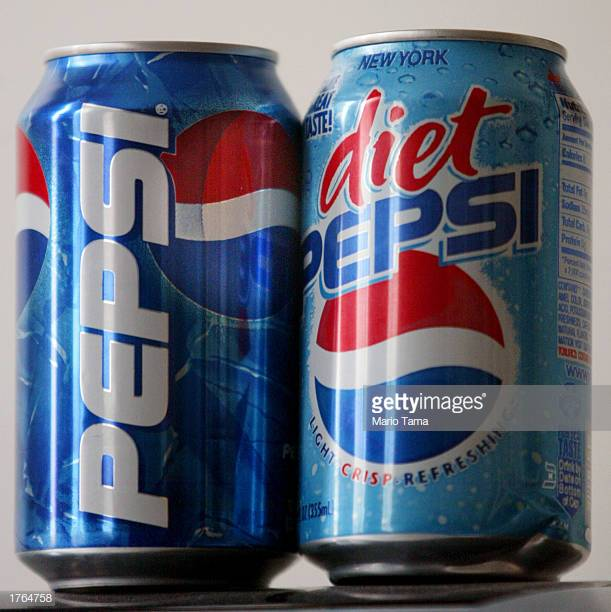pepsi: (313, 248, 506, 464), (313, 256, 506, 464), (146, 109, 303, 317), (13, 126, 49, 328)
